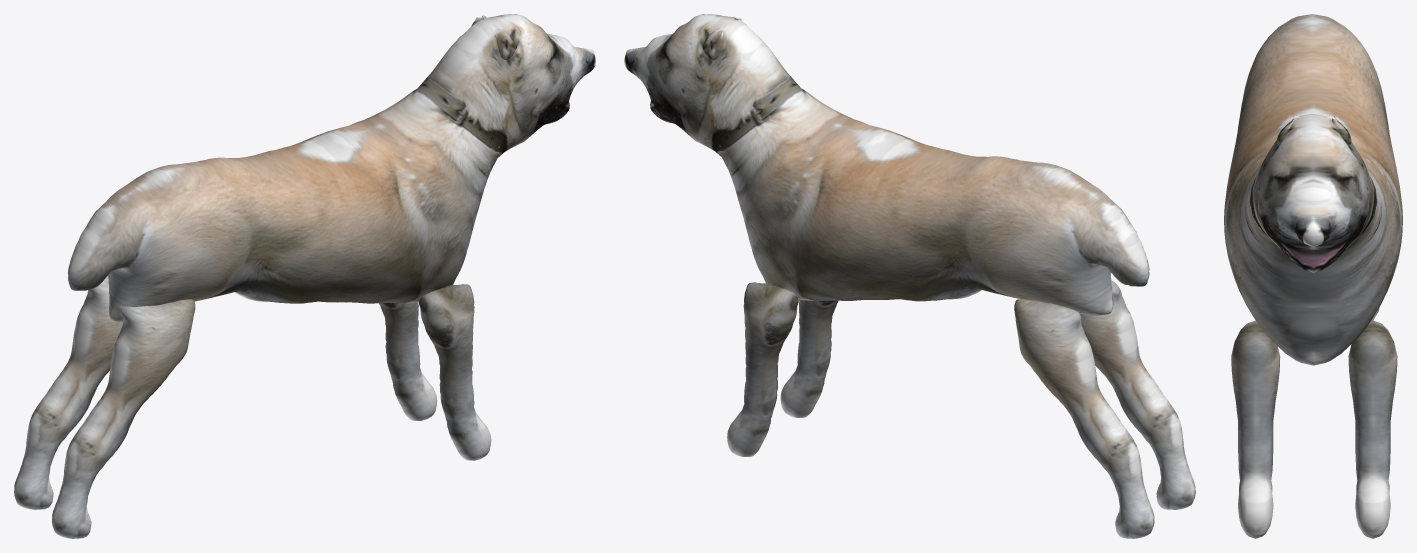
Rendered from street_dog.glb.
3 views of the same model, side by side, from view 1: azimuth 30°, elevation 25°; view 2: azimuth 150°, elevation 25°; view 3: azimuth 270°, elevation 25° (orthographic). The views are drawn at different scales.
Size of the model in its own units: 6.28 by 4.39 by 1.61.
Materials: 1 (1 with a texture image).
